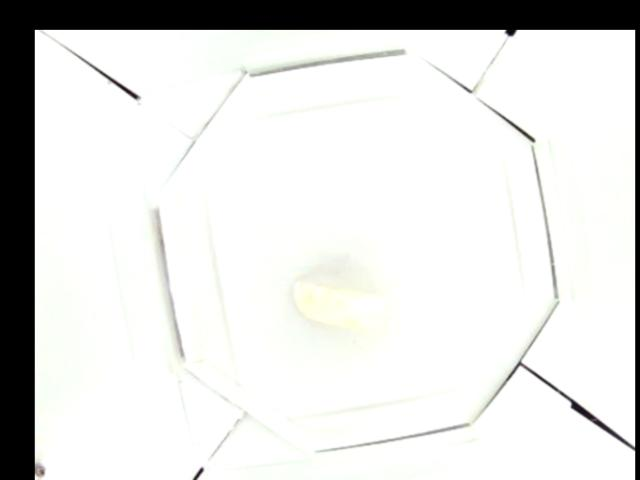Mooli: (294, 271, 386, 333)
